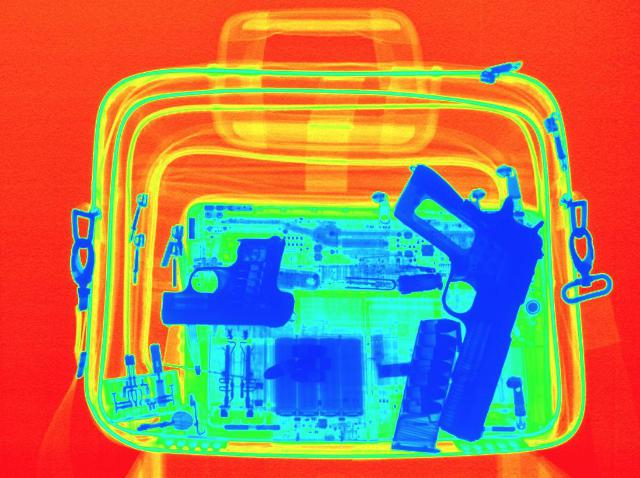Gun: (388, 162, 546, 442), (158, 233, 320, 325)
